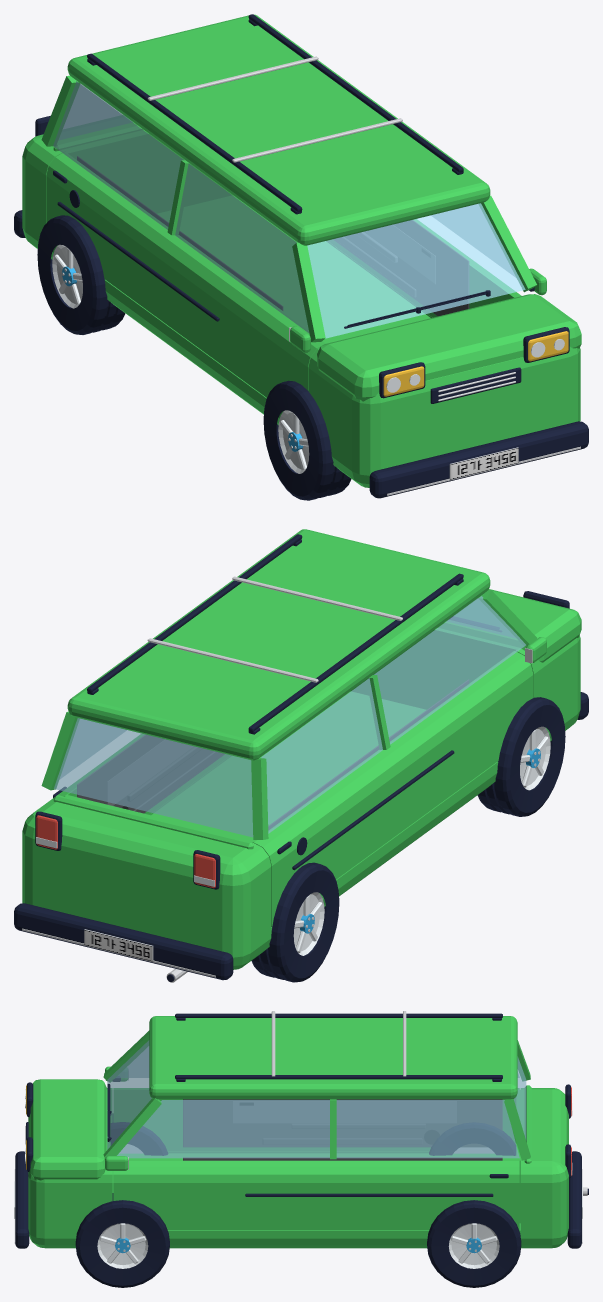
File: V04_minivan_v3.glb
3 renders of one model, top to bottom at view 1: azimuth 30°, elevation 25°; view 2: azimuth 150°, elevation 25°; view 3: azimuth 270°, elevation 25°, orthographic. The views are drawn at different scales.
Visible parts, largest first — view 1: Body, Glass, Door_R, Static, DoorDetail_L, Wheel_FR, Wheel_RR, Trunk, Door_L, DoorDetail_R; view 2: Body, Door_R, Glass, Trunk, Static, Wheel_RR, Wheel_FR, DoorDetail_L, DoorDetail_R, Door_L; view 3: Body, Door_L, Glass, DoorDetail_R, Static, Wheel_FL, Wheel_RL, Door_R, Wheel_RR, DoorDetail_L, Wheel_FR, Trunk.
Boxes of the visible parts, x1,y1,x2,y2 form: Body: [22, 14, 581, 487]; Glass: [53, 81, 525, 338]; Door_R: [46, 152, 326, 397]; Static: [14, 14, 588, 498]; DoorDetail_L: [333, 220, 469, 316]; Wheel_FR: [263, 380, 351, 500]; Wheel_RR: [37, 215, 125, 334]; Trunk: [53, 84, 143, 151]; Door_L: [328, 219, 521, 317]; DoorDetail_R: [53, 156, 282, 310]; Body: [22, 529, 581, 969]; Door_R: [252, 644, 533, 926]; Glass: [60, 596, 525, 833]; Trunk: [53, 718, 253, 849]; Static: [14, 534, 588, 982]; Wheel_RR: [251, 862, 339, 982]; Wheel_FR: [477, 697, 565, 816]; DoorDetail_L: [53, 734, 224, 813]; DoorDetail_R: [268, 679, 468, 854]; Door_L: [58, 734, 230, 814]; Body: [28, 1016, 568, 1248]; Door_L: [113, 1160, 519, 1229]; Glass: [107, 1040, 519, 1158]; DoorDetail_R: [183, 1099, 502, 1146]; Static: [14, 1011, 588, 1248]; Wheel_FL: [75, 1193, 169, 1287]; Wheel_RL: [427, 1200, 521, 1287]; Door_R: [113, 1088, 519, 1151]; Wheel_RR: [429, 1122, 515, 1155]; DoorDetail_L: [183, 1157, 508, 1178]; Wheel_FR: [111, 1122, 167, 1155]; Trunk: [514, 1057, 531, 1163].
Size of what is drawn, in the model's own units: 1.87 by 1.87 by 4.87.
3 materials, 1 textured.
